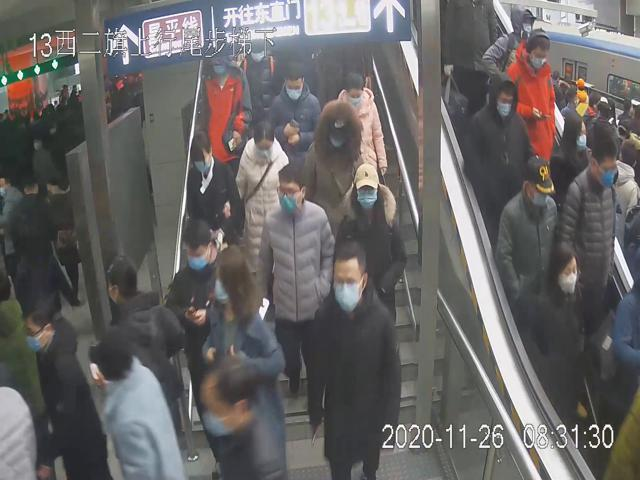person: (306, 238, 404, 480), (255, 160, 335, 392), (519, 242, 587, 438), (558, 116, 622, 306), (464, 65, 532, 237), (337, 160, 406, 320), (494, 152, 559, 312), (299, 99, 364, 240), (233, 120, 293, 271), (183, 130, 244, 256), (507, 28, 555, 169), (335, 64, 386, 196), (198, 52, 255, 167), (265, 56, 321, 168)
